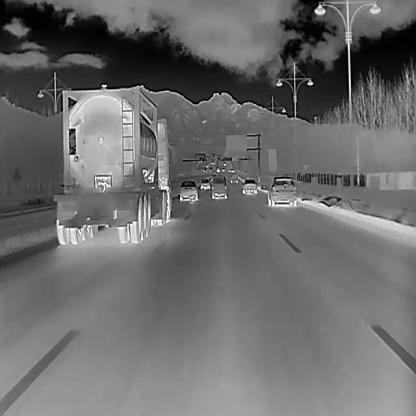car: (54, 84, 176, 244), (267, 175, 297, 206), (178, 179, 198, 201), (211, 175, 227, 199), (241, 178, 257, 194), (200, 178, 210, 189), (229, 173, 238, 183), (228, 168, 234, 173), (208, 166, 213, 171), (203, 167, 207, 172), (221, 167, 225, 172), (222, 161, 226, 166)
